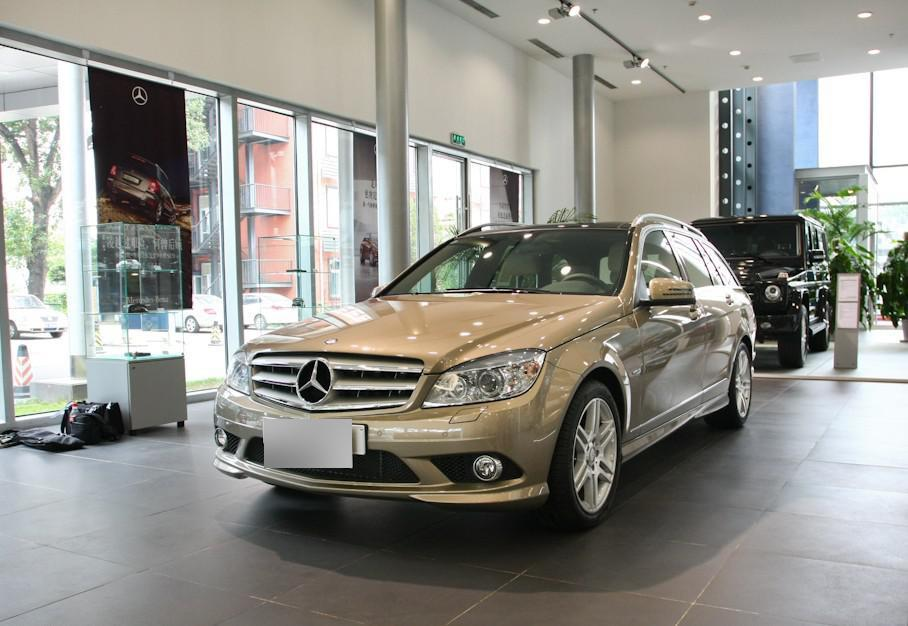Wagon: (213, 220, 758, 533)
